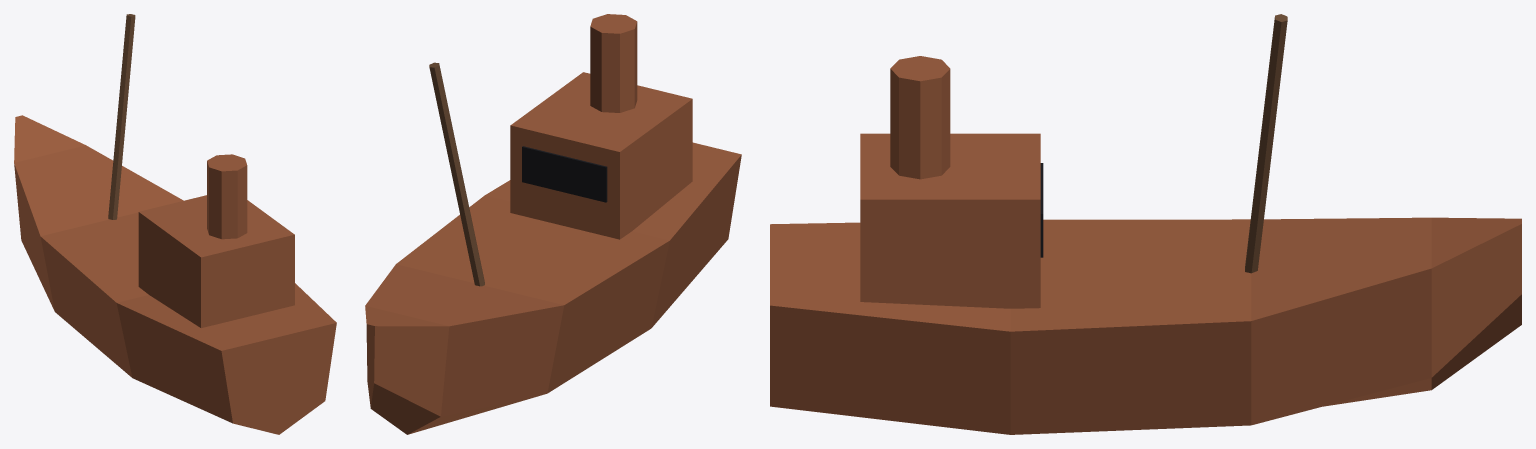
File: wreck.glb
3 renders of one model, left to right at view 1: azimuth 30°, elevation 25°; view 2: azimuth 150°, elevation 25°; view 3: azimuth 270°, elevation 25°, orthographic. The views are drawn at different scales.
Parts seen in each view (by area): view 1: wreck_Body; view 2: wreck_Body; view 3: wreck_Body.
Boxes of the visible parts, x1,y1,x2,y2 form: wreck_Body: [14, 14, 336, 434]; wreck_Body: [365, 14, 741, 434]; wreck_Body: [770, 14, 1521, 434].
Bounding box in the file's own units: 4.4 × 7.82 × 12.5.
